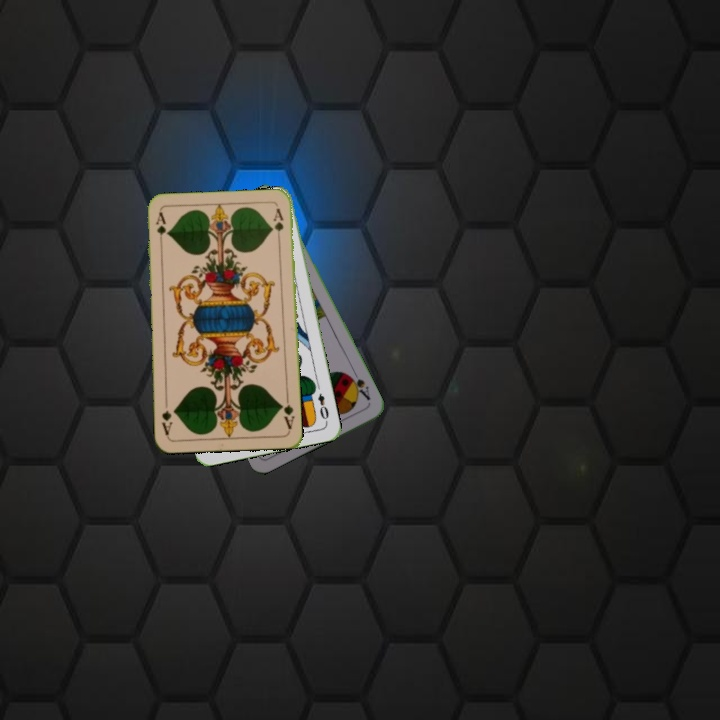EO: (314, 389, 331, 425)
GA: (277, 392, 297, 432), (152, 208, 169, 249)
SA: (344, 370, 373, 403)
